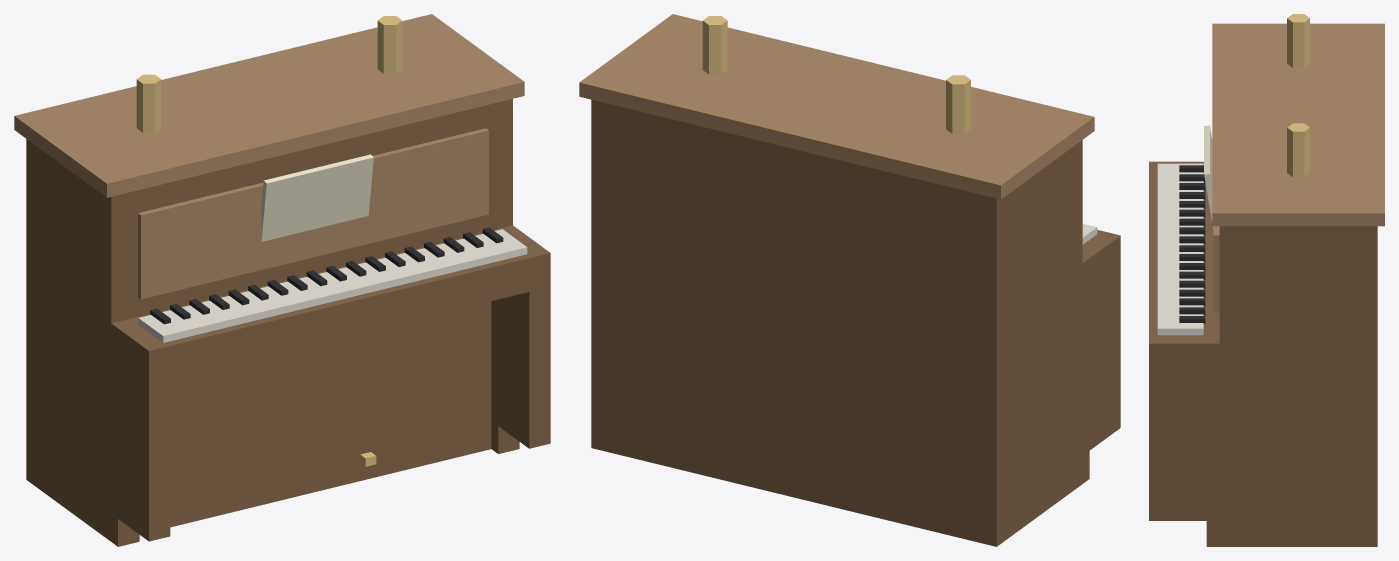
The model's file is SM_Piano.glb.
The picture shows the model from 3 angles, left to right: view 1: azimuth 30°, elevation 25°; view 2: azimuth 150°, elevation 25°; view 3: azimuth 270°, elevation 25°; orthographic projection. The views are drawn at different scales.
Parts seen in each view (by area): view 1: SM_Piano; view 2: SM_Piano; view 3: SM_Piano.
Boxes of the visible parts, box(x1,y1,x2,y2) form: SM_Piano: box(14, 14, 550, 546); SM_Piano: box(579, 14, 1120, 546); SM_Piano: box(1149, 14, 1384, 546).
Size of the model in its own units: 1.56 by 1.47 by 0.82.
